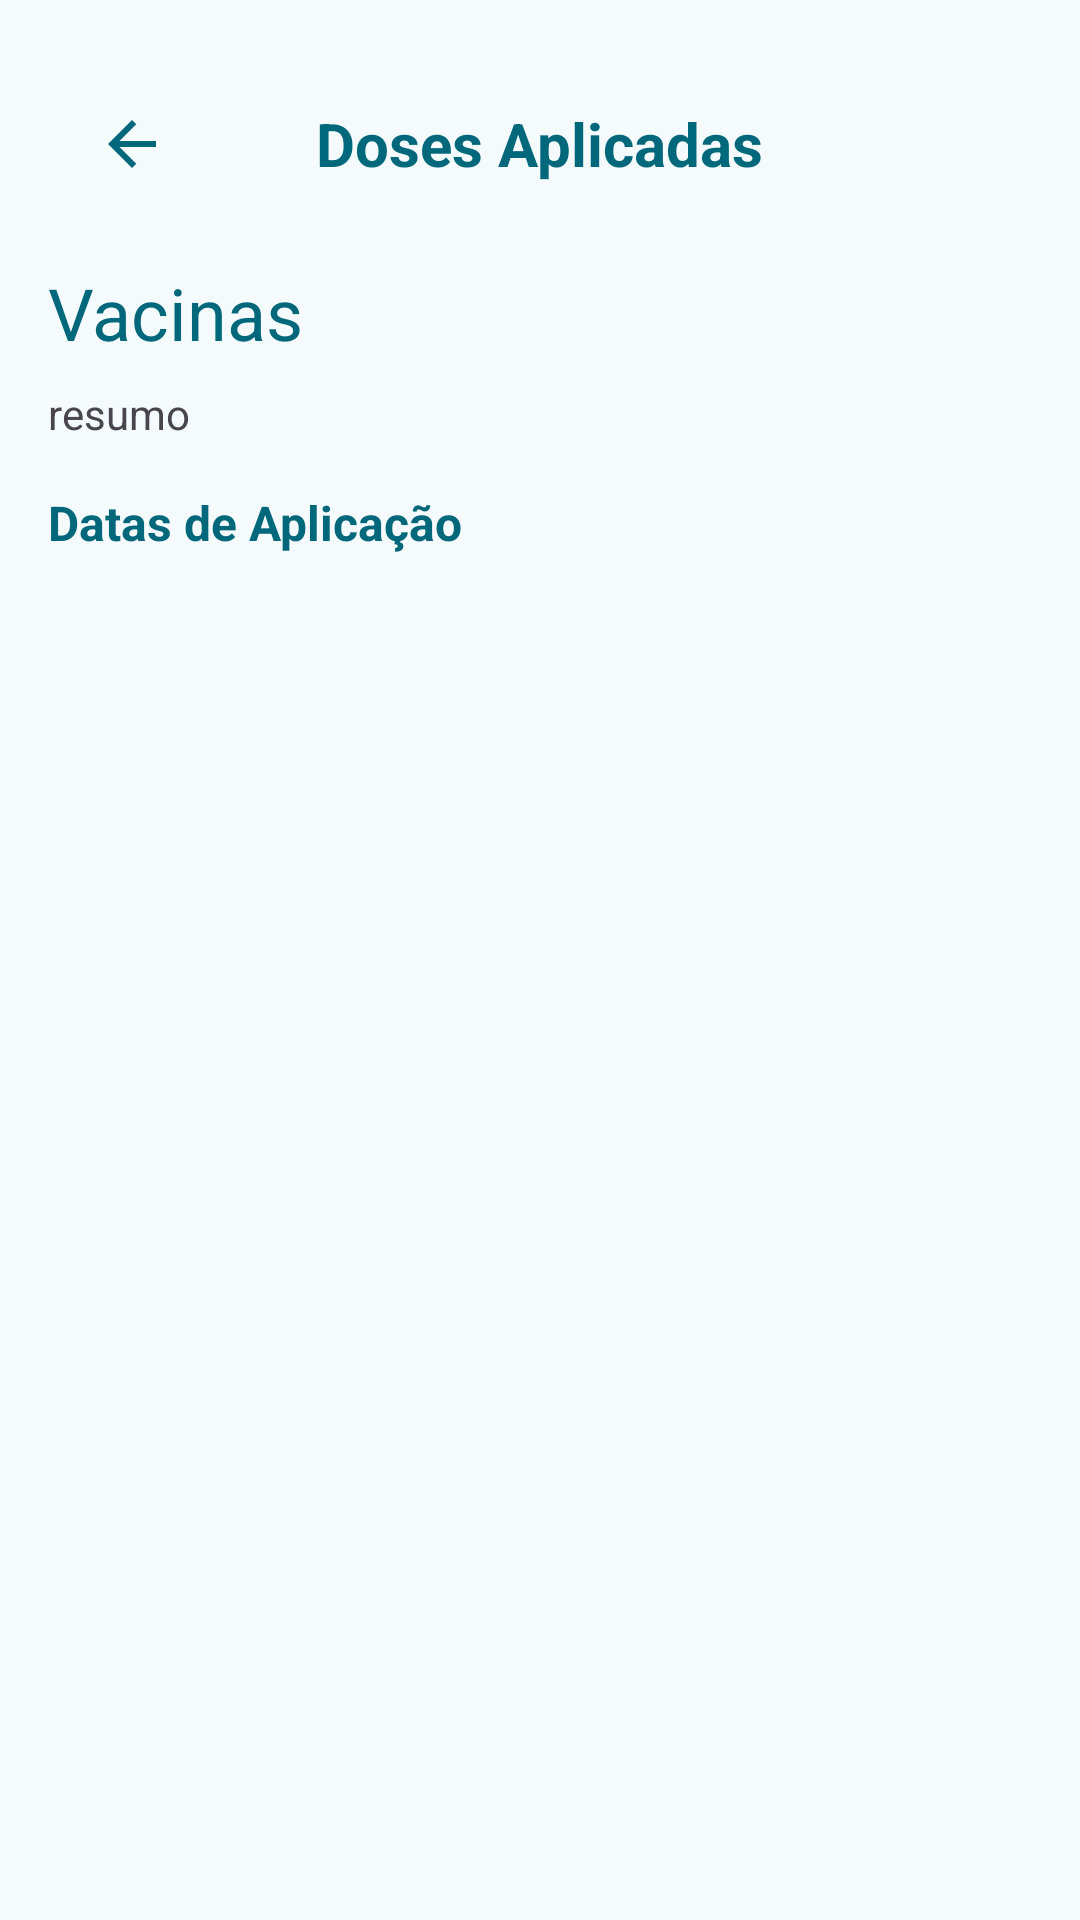

Icon bounding boxes for this 1080w x 1920h phone screenshot, format (x1, y1, x2, y2):
arrow back: (108, 120, 156, 168)
